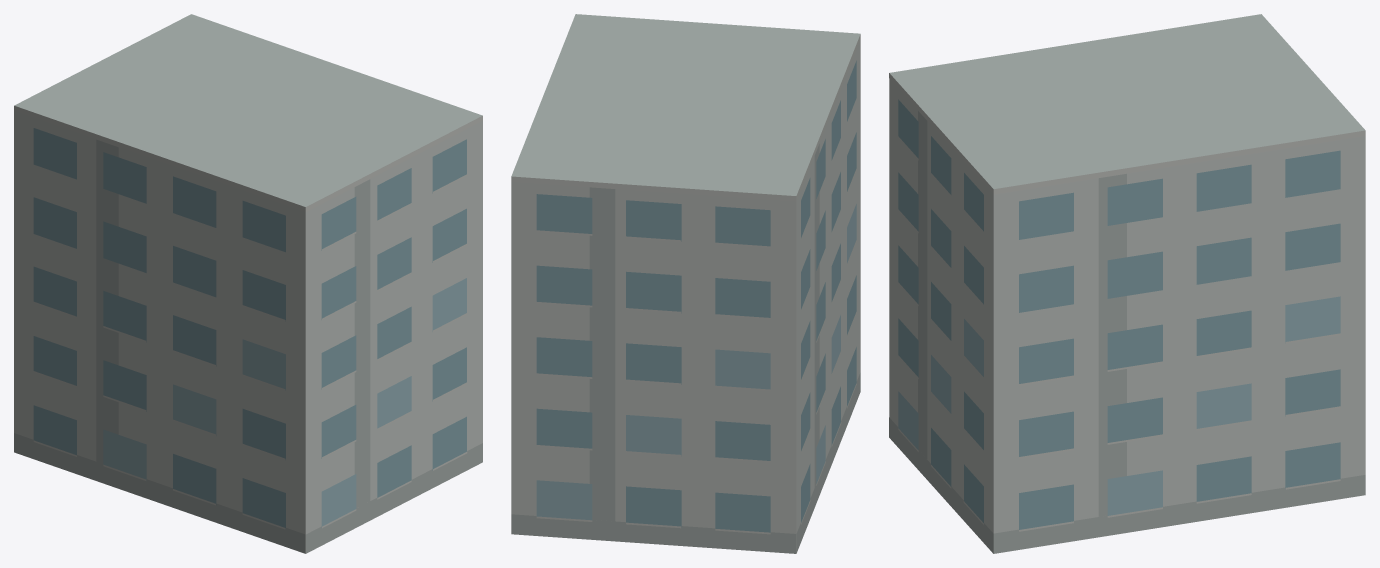
The model's file is survey-upis-32858635.glb.
The picture shows the model from 3 angles, left to right: view 1: azimuth 30°, elevation 25°; view 2: azimuth 150°, elevation 25°; view 3: azimuth 270°, elevation 25°; orthographic projection. The views are drawn at different scales.
Parts seen in each view (by area): view 1: survey-upis-32858635.tmp; view 2: survey-upis-32858635.tmp; view 3: survey-upis-32858635.tmp.
Part boxes in pixels (left/top/right/bottom): survey-upis-32858635.tmp: left=14, top=14, right=482, bottom=553; survey-upis-32858635.tmp: left=511, top=14, right=860, bottom=553; survey-upis-32858635.tmp: left=889, top=14, right=1365, bottom=553.
Bounding box in the file's own units: 16.39 × 15.9 × 18.84.
